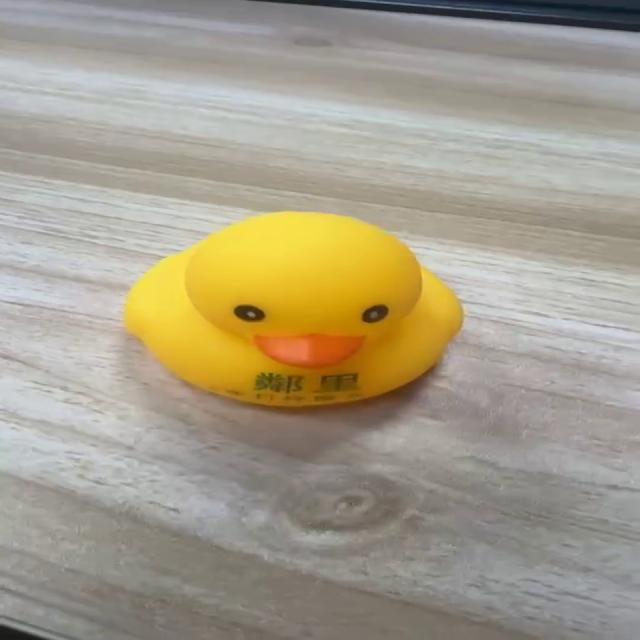yellow_duck: (121, 209, 464, 409)
